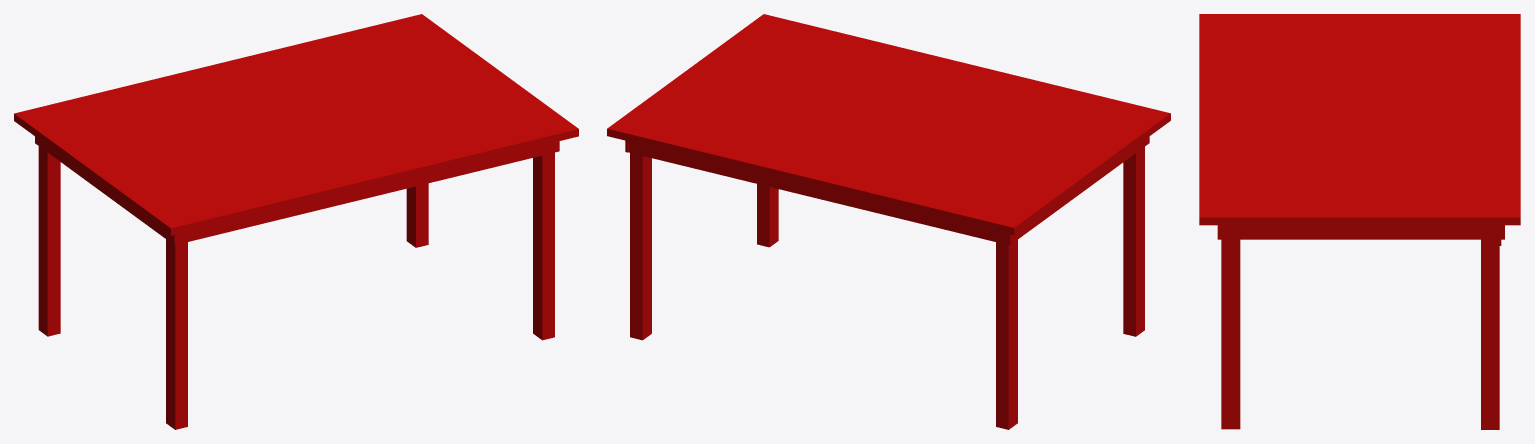
The model's file is table.obj.
3 renders of one model, left to right at view 1: azimuth 30°, elevation 25°; view 2: azimuth 150°, elevation 25°; view 3: azimuth 270°, elevation 25°, orthographic. The views are drawn at different scales.
Parts seen in each view (by area): view 1: table_pCube9.001; view 2: table_pCube9.001; view 3: table_pCube9.001.
Boxes of the visible parts, left/top/right/bottom form: table_pCube9.001: left=14, top=14, right=578, bottom=429; table_pCube9.001: left=607, top=14, right=1170, bottom=429; table_pCube9.001: left=1199, top=14, right=1520, bottom=429.
Bounding box in the file's own units: 3 × 1.5 × 2.
